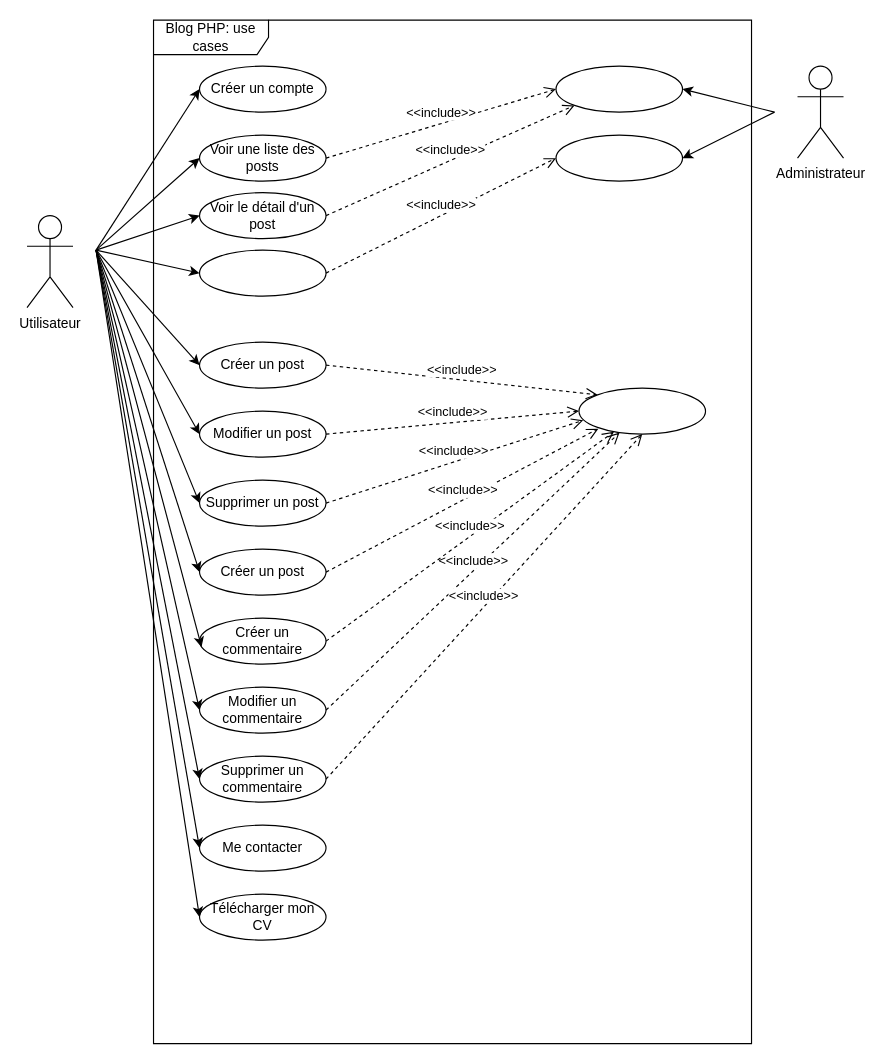
Some shapes in this 884 by 1064 pixel diagram are drawn without their labels. The shapes that lost their labels are listed below. From the top down, each one's centre as x and y in pixels, then its label:
At point 619,88: "Valider un post".
At point 619,157: "Valider un commentaire".
At point 262,272: "Voir un commentaire".
At point 642,410: "Se connecter".
